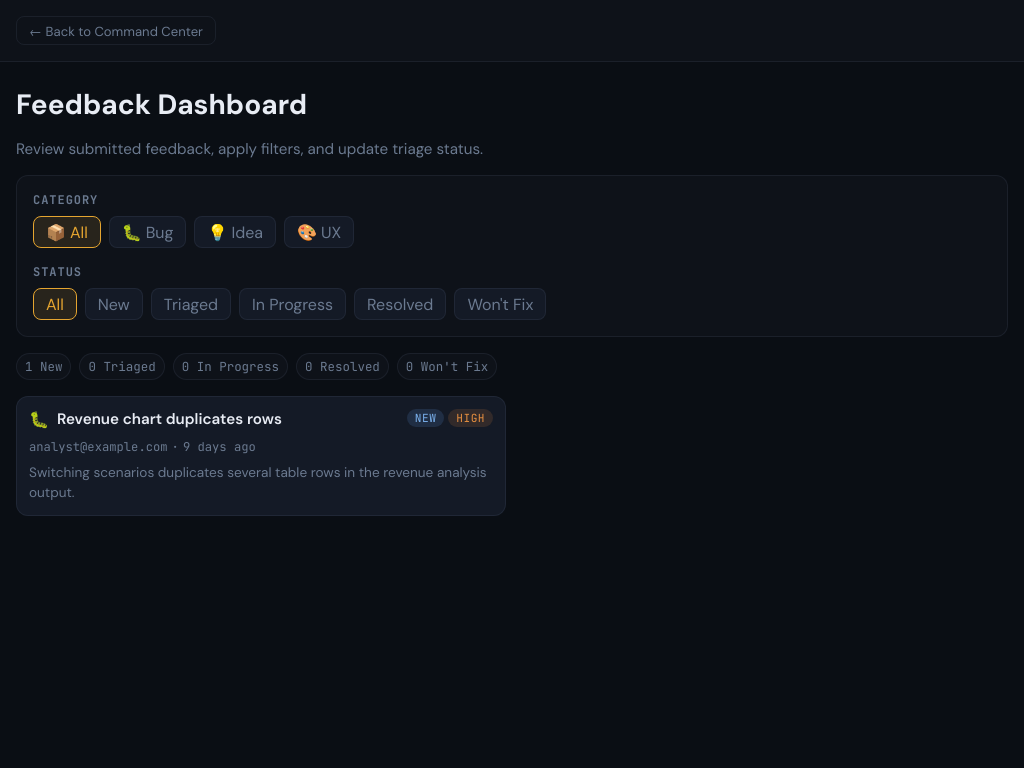
Scenario: FeedbackDashboard › opens detail view when a feedback card is clicked
Check: the heading "Revenue chart duplicates rows" is shown, box 57,409 -> 282,429
Click the list item "Revenue chart duplicates rows" at (169, 419), box 16,396 -> 506,516
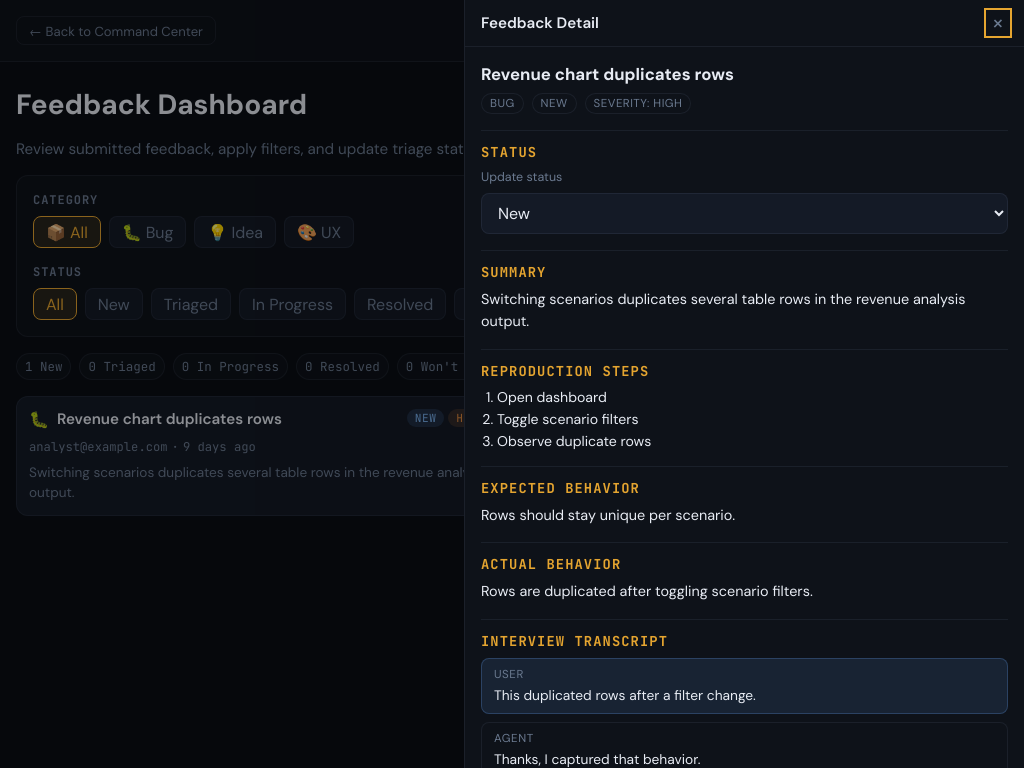
Check: the heading "Feedback Detail" is shown, box 481,13 -> 599,33
Check: the heading "Expected Behavior" is shown, box 481,479 -> 640,497
Check: the text "Rows should stay unique per scenario." is shown, box 481,506 -> 735,524
